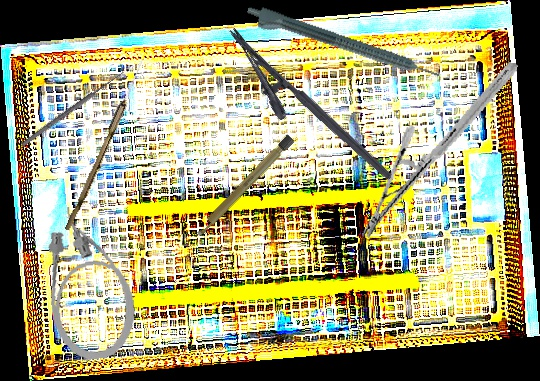Cannula: (39, 200, 141, 364)
Handpiece: (242, 2, 442, 91)
Hook Surgical: (16, 63, 129, 149)
Needle Holder: (360, 39, 519, 261), (207, 24, 394, 203)
Scalpel Handle: (191, 133, 296, 240)
Surgical Spoon: (64, 56, 147, 233)
